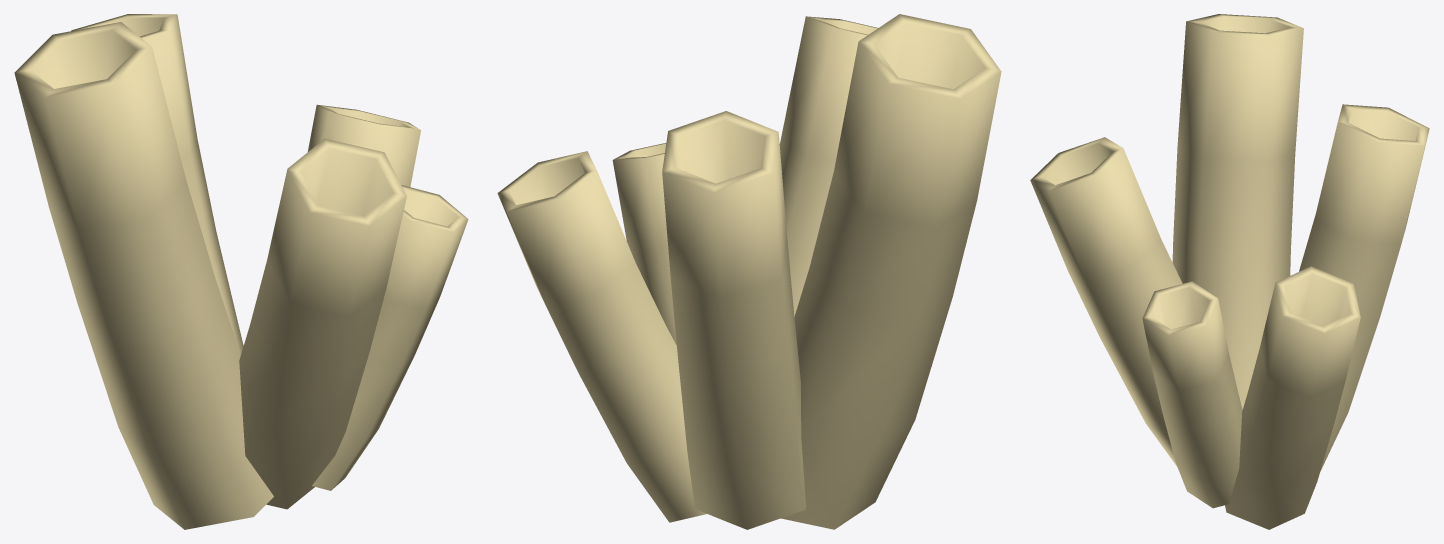
File: Coral5_Bogdan.fbx
3 views of the same model, side by side, from view 1: azimuth 30°, elevation 25°; view 2: azimuth 150°, elevation 25°; view 3: azimuth 270°, elevation 25° (orthographic). The views are drawn at different scales.
Visible parts, largest first — view 1: Coral5; view 2: Coral5; view 3: Coral5.
Boxes of the visible parts, x1=… form: Coral5: x1=14, y1=14, x2=468, y2=529; Coral5: x1=497, y1=14, x2=1001, y2=529; Coral5: x1=1030, y1=14, x2=1429, y2=529.
Size of the model in its own units: 76.79 by 86.02 by 74.74.
